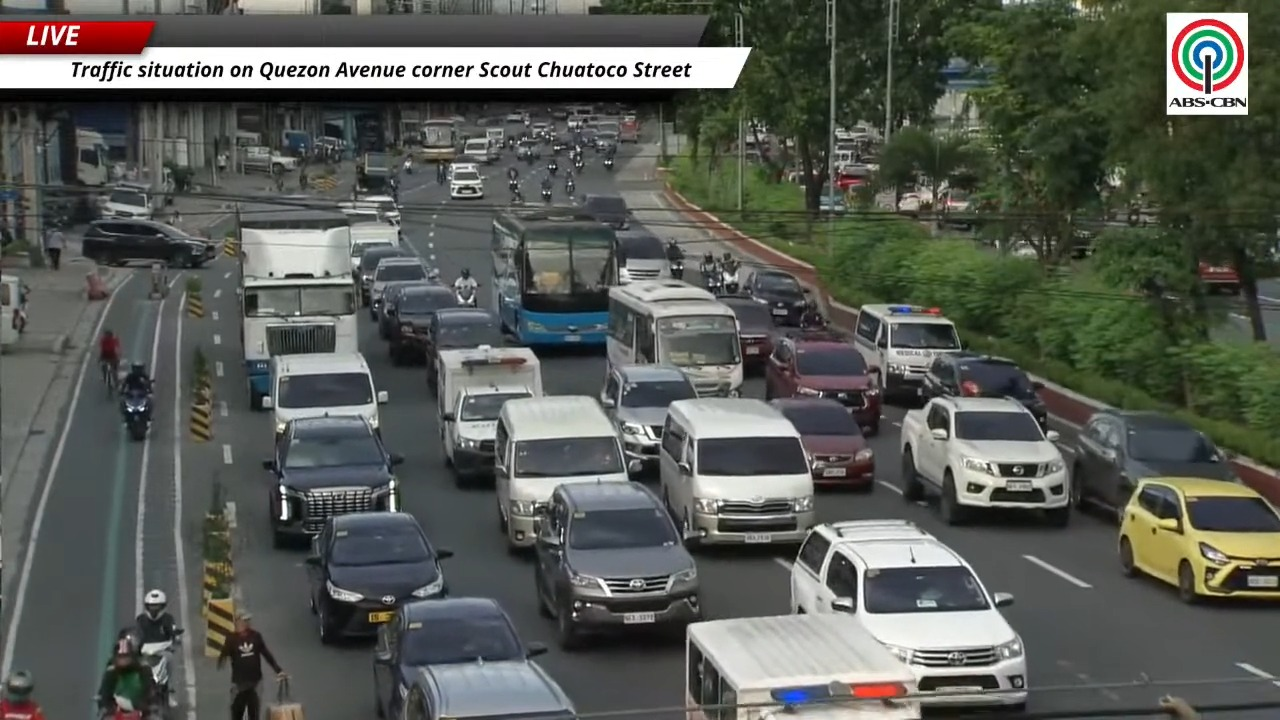bus: (685, 613, 921, 719), (492, 206, 617, 345), (606, 279, 743, 396), (419, 119, 460, 162)
car: (790, 519, 1027, 712), (535, 483, 700, 648), (373, 598, 575, 719), (1118, 477, 1279, 602), (306, 511, 451, 643), (263, 415, 403, 547), (1071, 409, 1239, 518), (765, 332, 882, 434), (601, 364, 696, 471), (920, 351, 1046, 429), (770, 397, 874, 490), (423, 307, 505, 390), (82, 218, 217, 267), (384, 284, 458, 364), (718, 295, 776, 369), (369, 255, 428, 320), (743, 269, 806, 324), (355, 245, 412, 305), (375, 281, 432, 339), (99, 182, 160, 219), (579, 194, 631, 228), (357, 195, 400, 226), (449, 169, 484, 198), (447, 160, 479, 178), (819, 194, 847, 214), (593, 131, 619, 152), (452, 155, 486, 170), (516, 138, 540, 159), (551, 133, 574, 153), (530, 122, 553, 139), (504, 110, 527, 123)
motorcycle: (139, 628, 183, 707), (121, 392, 151, 441), (98, 695, 150, 719), (702, 268, 722, 294), (455, 285, 477, 308), (721, 268, 739, 294), (669, 259, 683, 279), (511, 188, 523, 204), (541, 188, 552, 202), (603, 157, 614, 171), (565, 180, 575, 195), (403, 158, 412, 174), (508, 178, 518, 192), (574, 158, 584, 171), (548, 162, 557, 175)
truck: (235, 206, 357, 409), (900, 396, 1070, 526), (436, 346, 542, 486), (75, 128, 110, 187), (240, 146, 298, 175), (357, 152, 394, 193)
